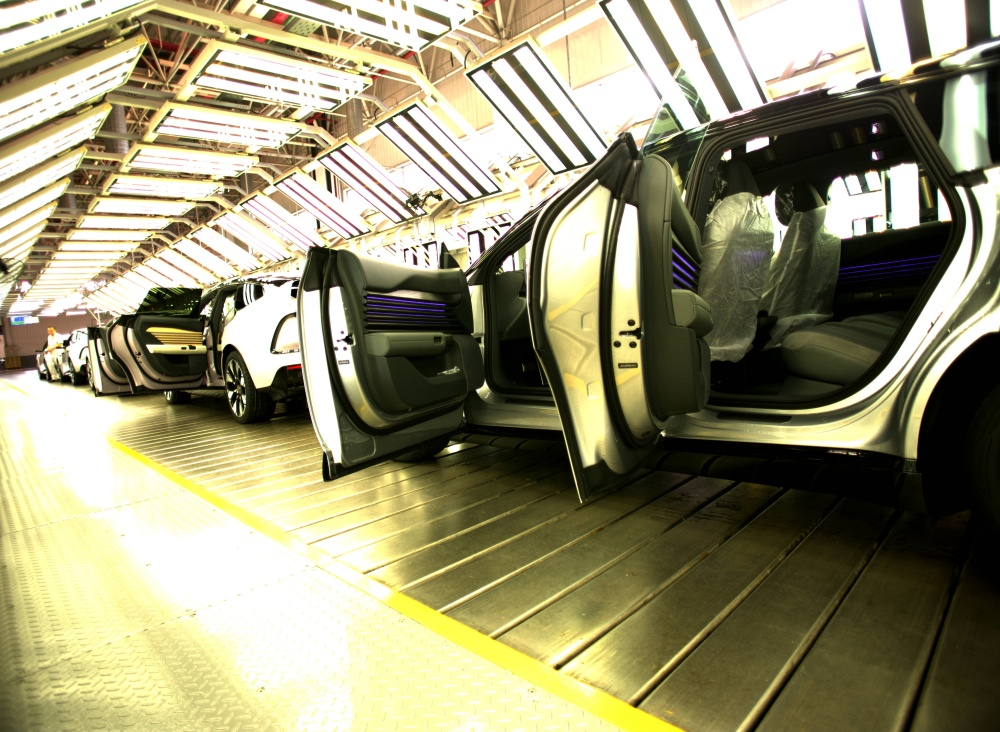armrest_color: (363, 330, 449, 358)
panel_color: (361, 286, 451, 333)
